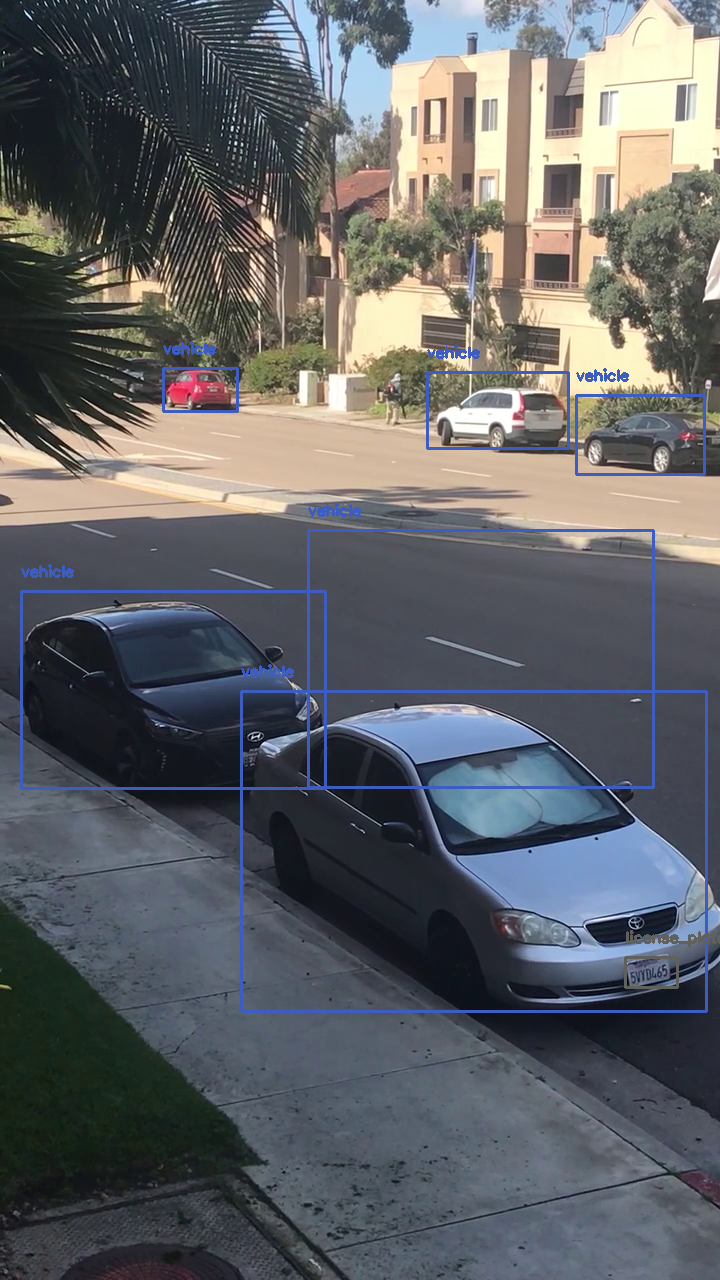license_plate: (625, 957, 677, 987)
vehicle: (241, 691, 706, 1011), (308, 530, 653, 787), (21, 591, 325, 788), (427, 372, 568, 448), (576, 395, 704, 474), (163, 368, 237, 411)
